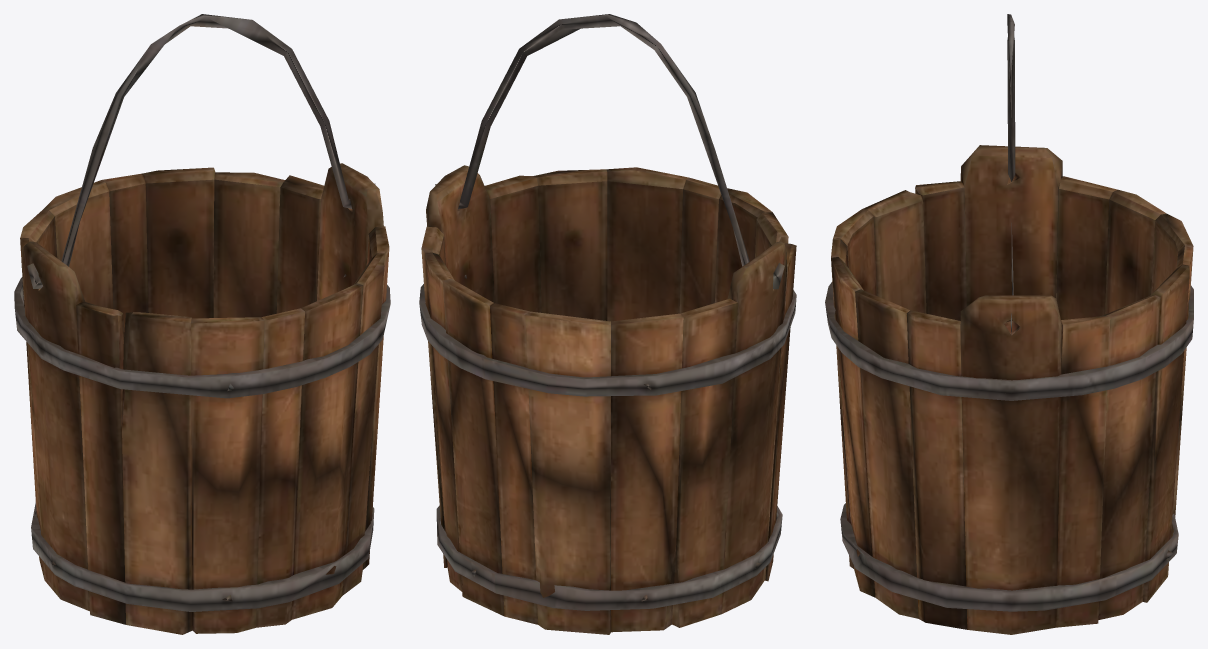
Rendered from wooden_bucket_01.glb.
The picture shows the model from 3 angles, left to right: view 1: azimuth 30°, elevation 25°; view 2: azimuth 150°, elevation 25°; view 3: azimuth 270°, elevation 25°; orthographic projection.
Visible parts, largest first — view 1: wooden_bucket_01; view 2: wooden_bucket_01; view 3: wooden_bucket_01.
Boxes of the visible parts, x1,y1,x2,y2 form: wooden_bucket_01: (14, 14, 390, 634); wooden_bucket_01: (419, 14, 796, 634); wooden_bucket_01: (825, 14, 1193, 634).
Size of the model in its own units: 0.3641 by 0.5478 by 0.338.
1 material, 1 textured.
